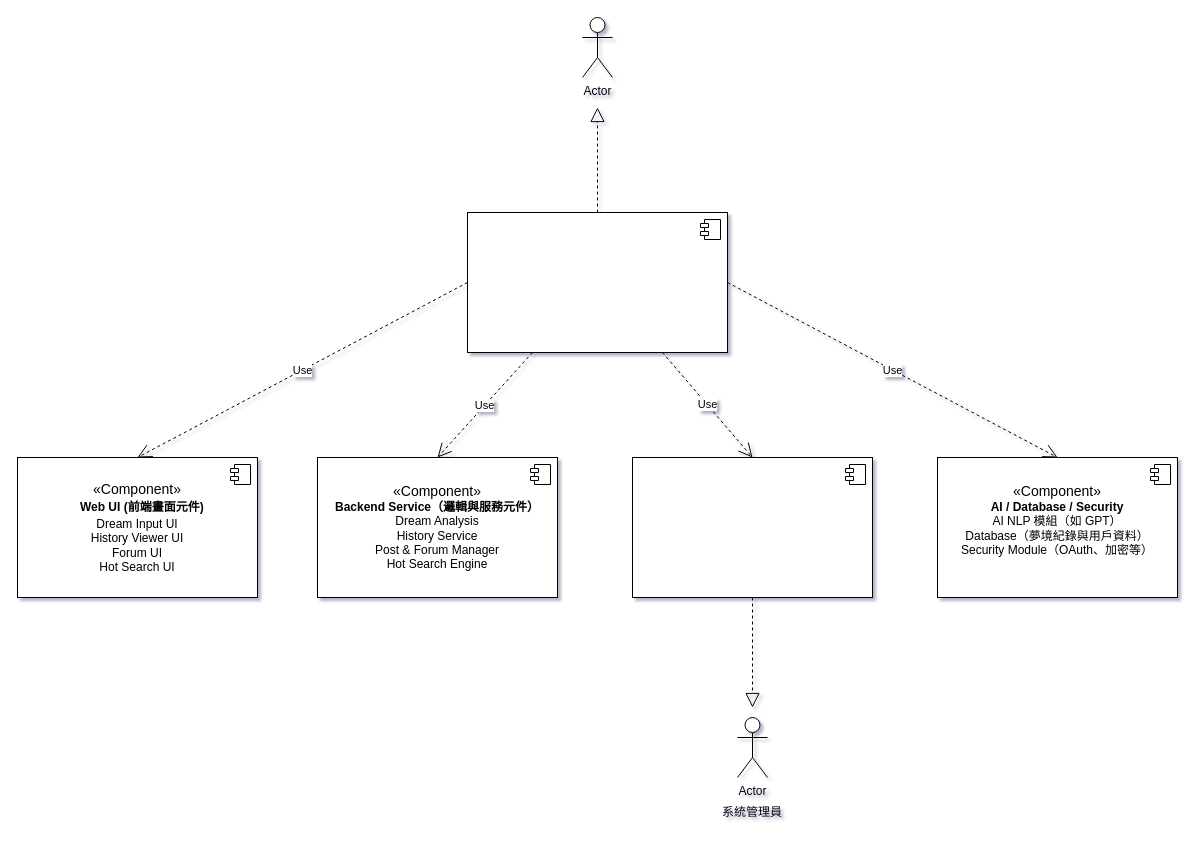
The diagram is 1201 pixels wide and 851 high, and some of its shapes have lost their labels. Here are the shapes that lost their labels. From the top down, the centre of each, then its label:
At point (597, 282): "«Component» DreamEcho AI 系統".
At point (752, 527): "«Component» Admin Tools（系統管理模組） Admin Dashboard（系統管理介面）".
